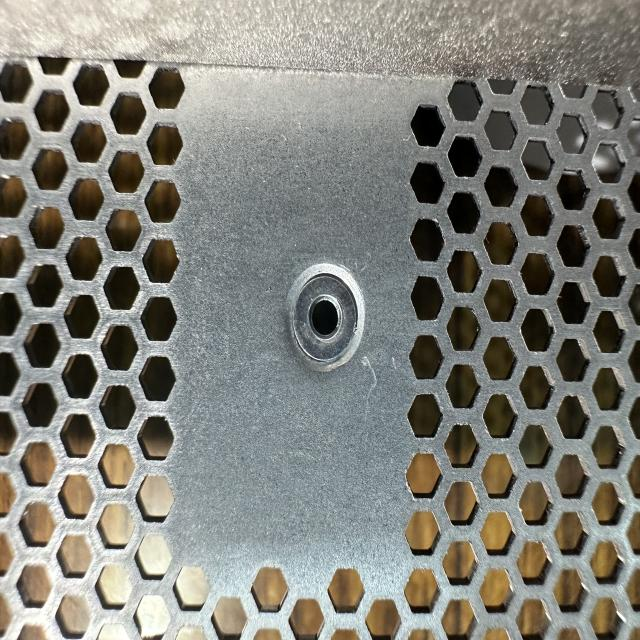Missing screw: (278, 255, 376, 381)
